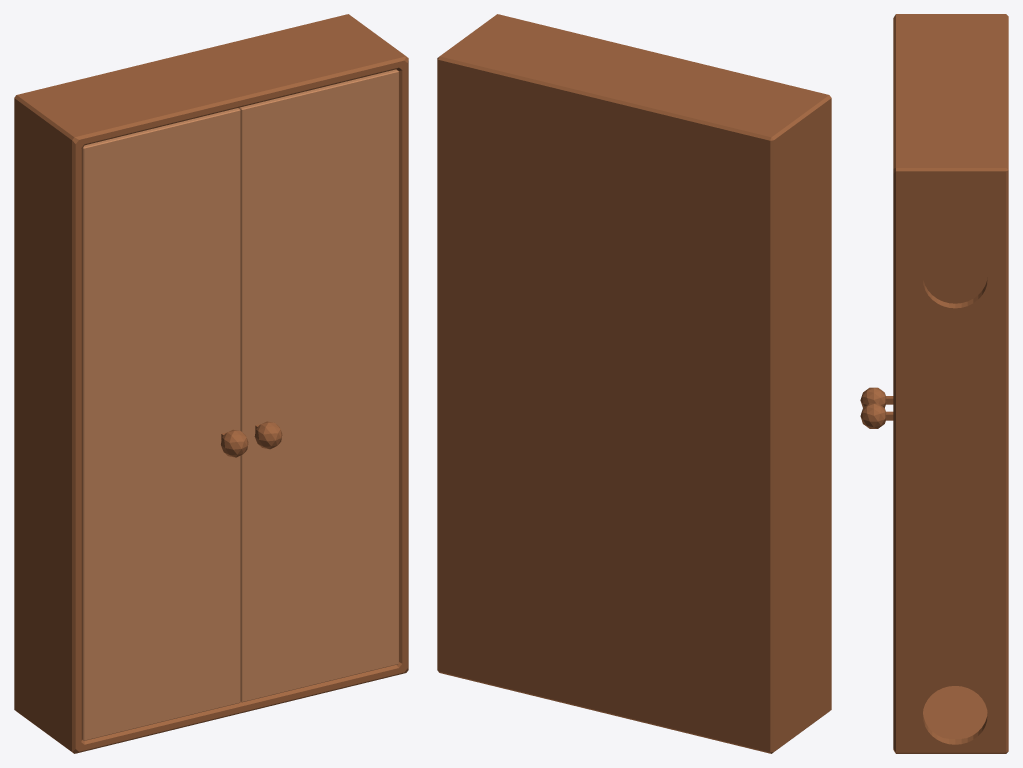
Rendered from bigholeshelf.fbx.
3 views of the same model, side by side, from view 1: azimuth 30°, elevation 25°; view 2: azimuth 150°, elevation 25°; view 3: azimuth 270°, elevation 25° (orthographic). The views are drawn at different scales.
Visible parts, largest first — view 1: Shelf B.001, Shelf B.002, Shelf B; view 2: Shelf B; view 3: Shelf B, Shelf B.002, Shelf B.001.
Part boxes in pixels (x1,y1,x2,y2): Shelf B.001: (82,108,248,740); Shelf B.002: (239,69,398,702); Shelf B: (14,14,408,753); Shelf B: (437,14,831,753); Shelf B: (893,14,1008,753); Shelf B.002: (860,403,893,428); Shelf B.001: (860,387,893,407).
Size of the model in its own units: 614 by 1076 by 246.
